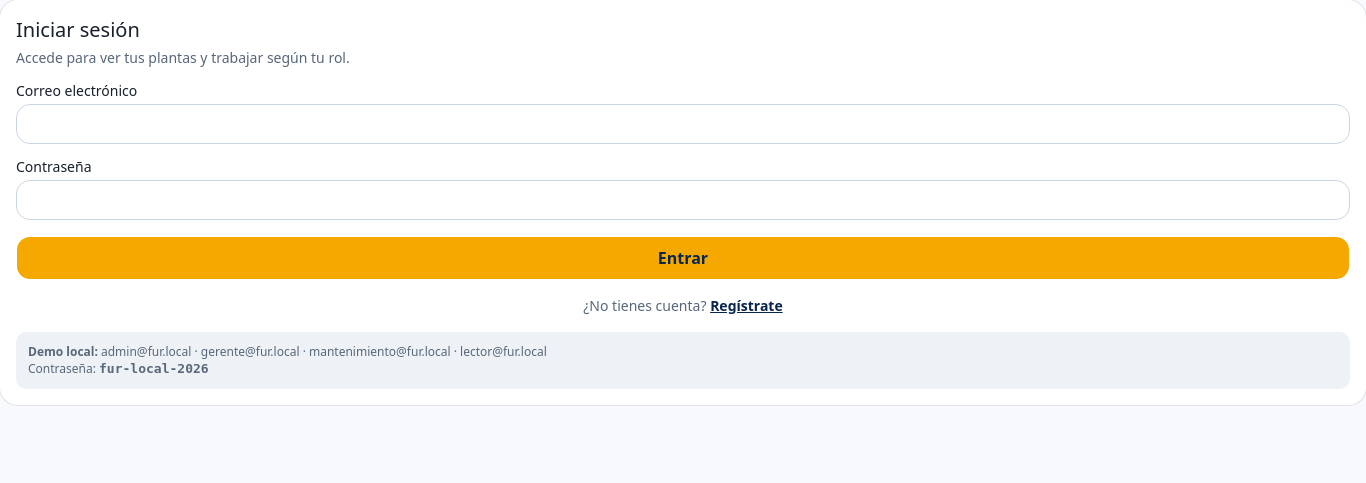
Scenario: AuthPage › login › credenciales incorrectas → mensaje genérico accesible, sin redirigir
The width and height of the screenshot is (1366, 483).
In the field labelled "Correo electrónico": (683, 124) [16, 104, 1350, 144], type "gerente@fur.local"
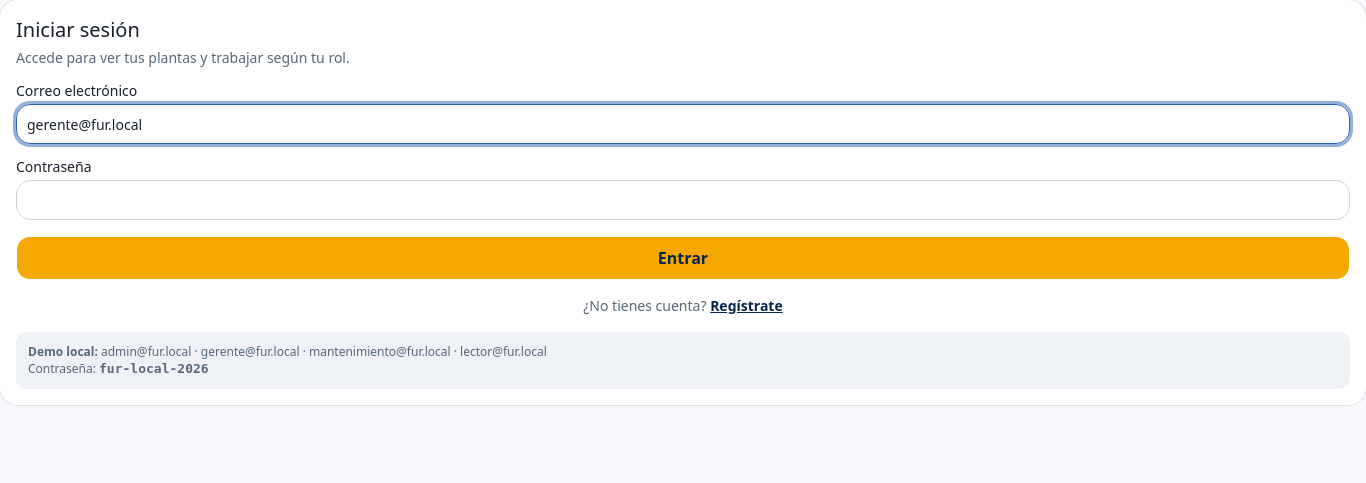
In the password field labelled "Contraseña": (683, 200) [16, 180, 1350, 220], type "mala"
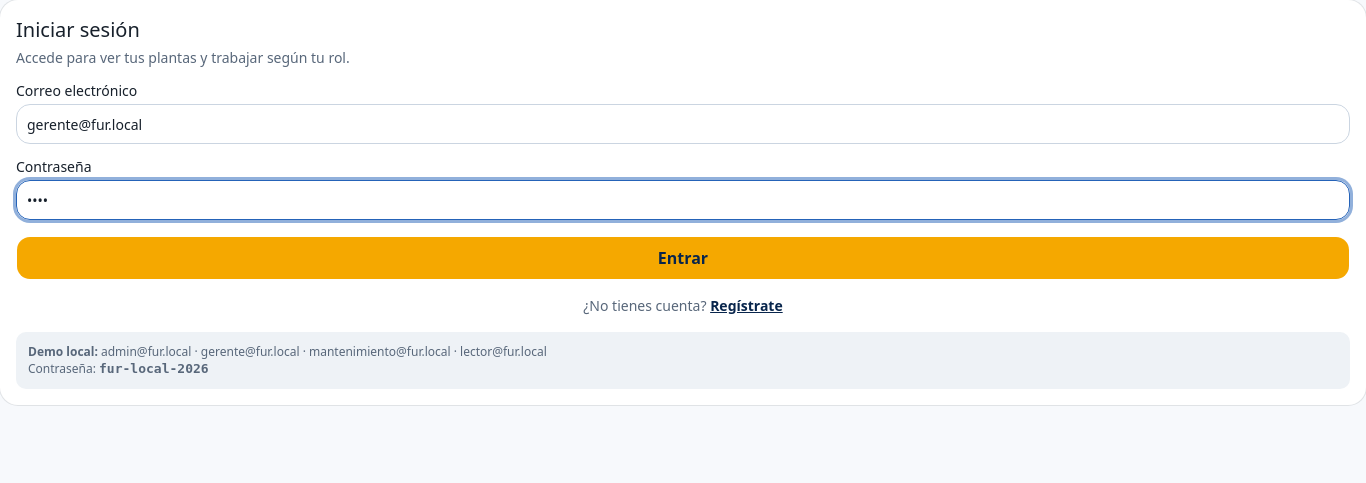
Click the button "Entrar": click(683, 258) [16, 236, 1350, 280]
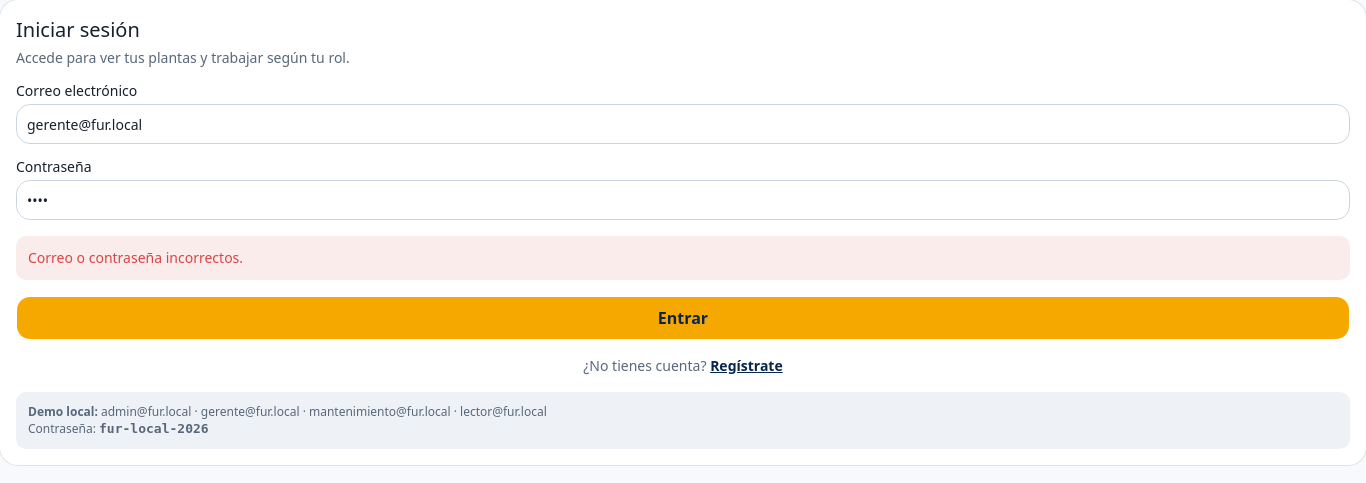
Expected: the message shows "Correo o contraseña incorrectos", [28, 248, 243, 267]
